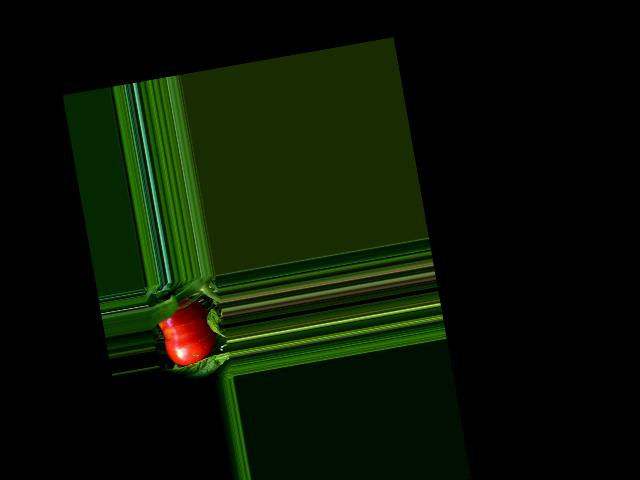tomato: (154, 294, 220, 369)
